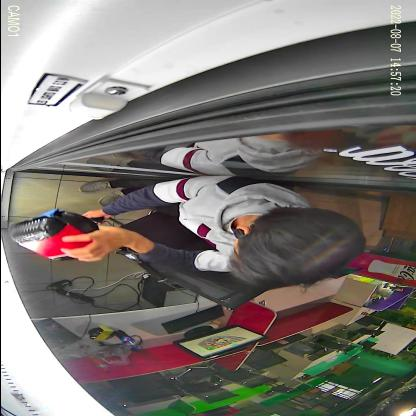blue: (36, 209, 98, 235)
red: (6, 216, 92, 262)
